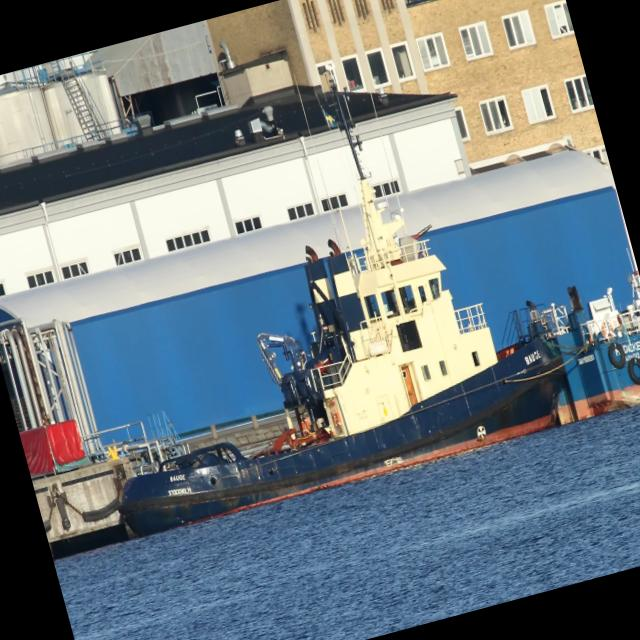Tug: (103, 176, 605, 534)
